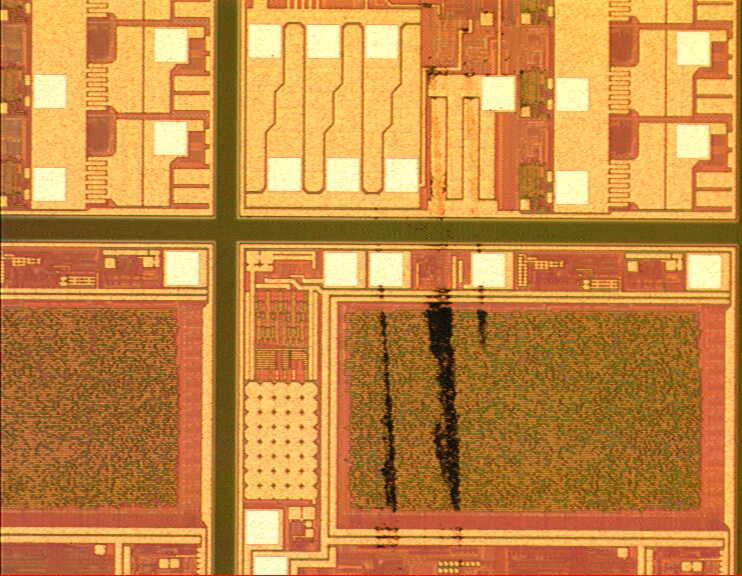SCRATCH: (352, 1, 509, 576)
